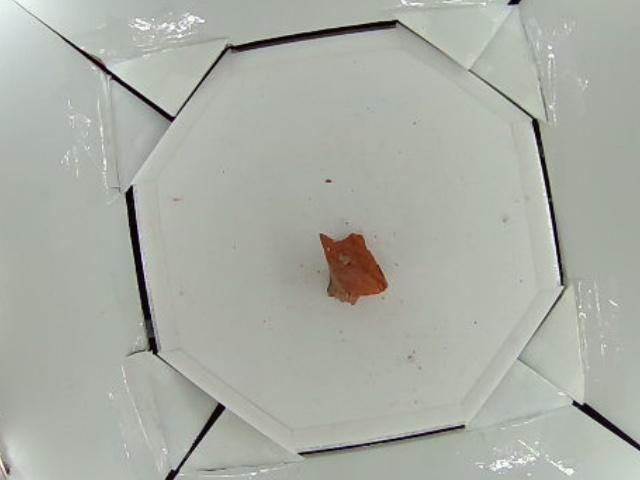Brisk: (321, 230, 388, 303)
